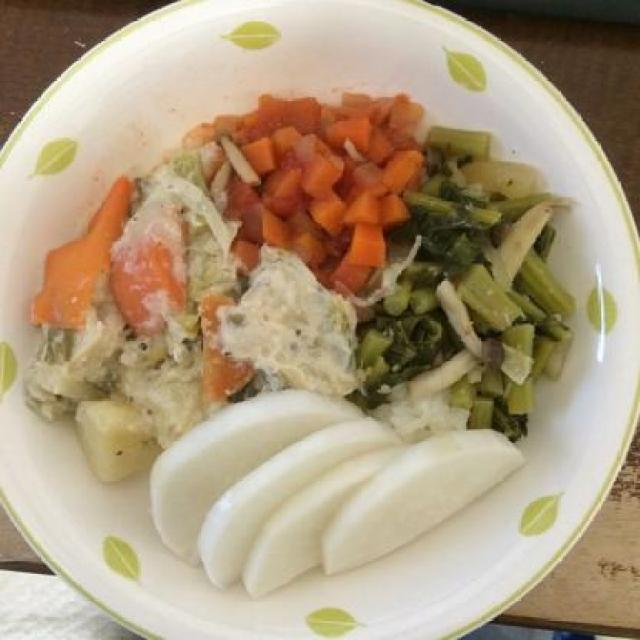Salad: (27, 71, 610, 595)
